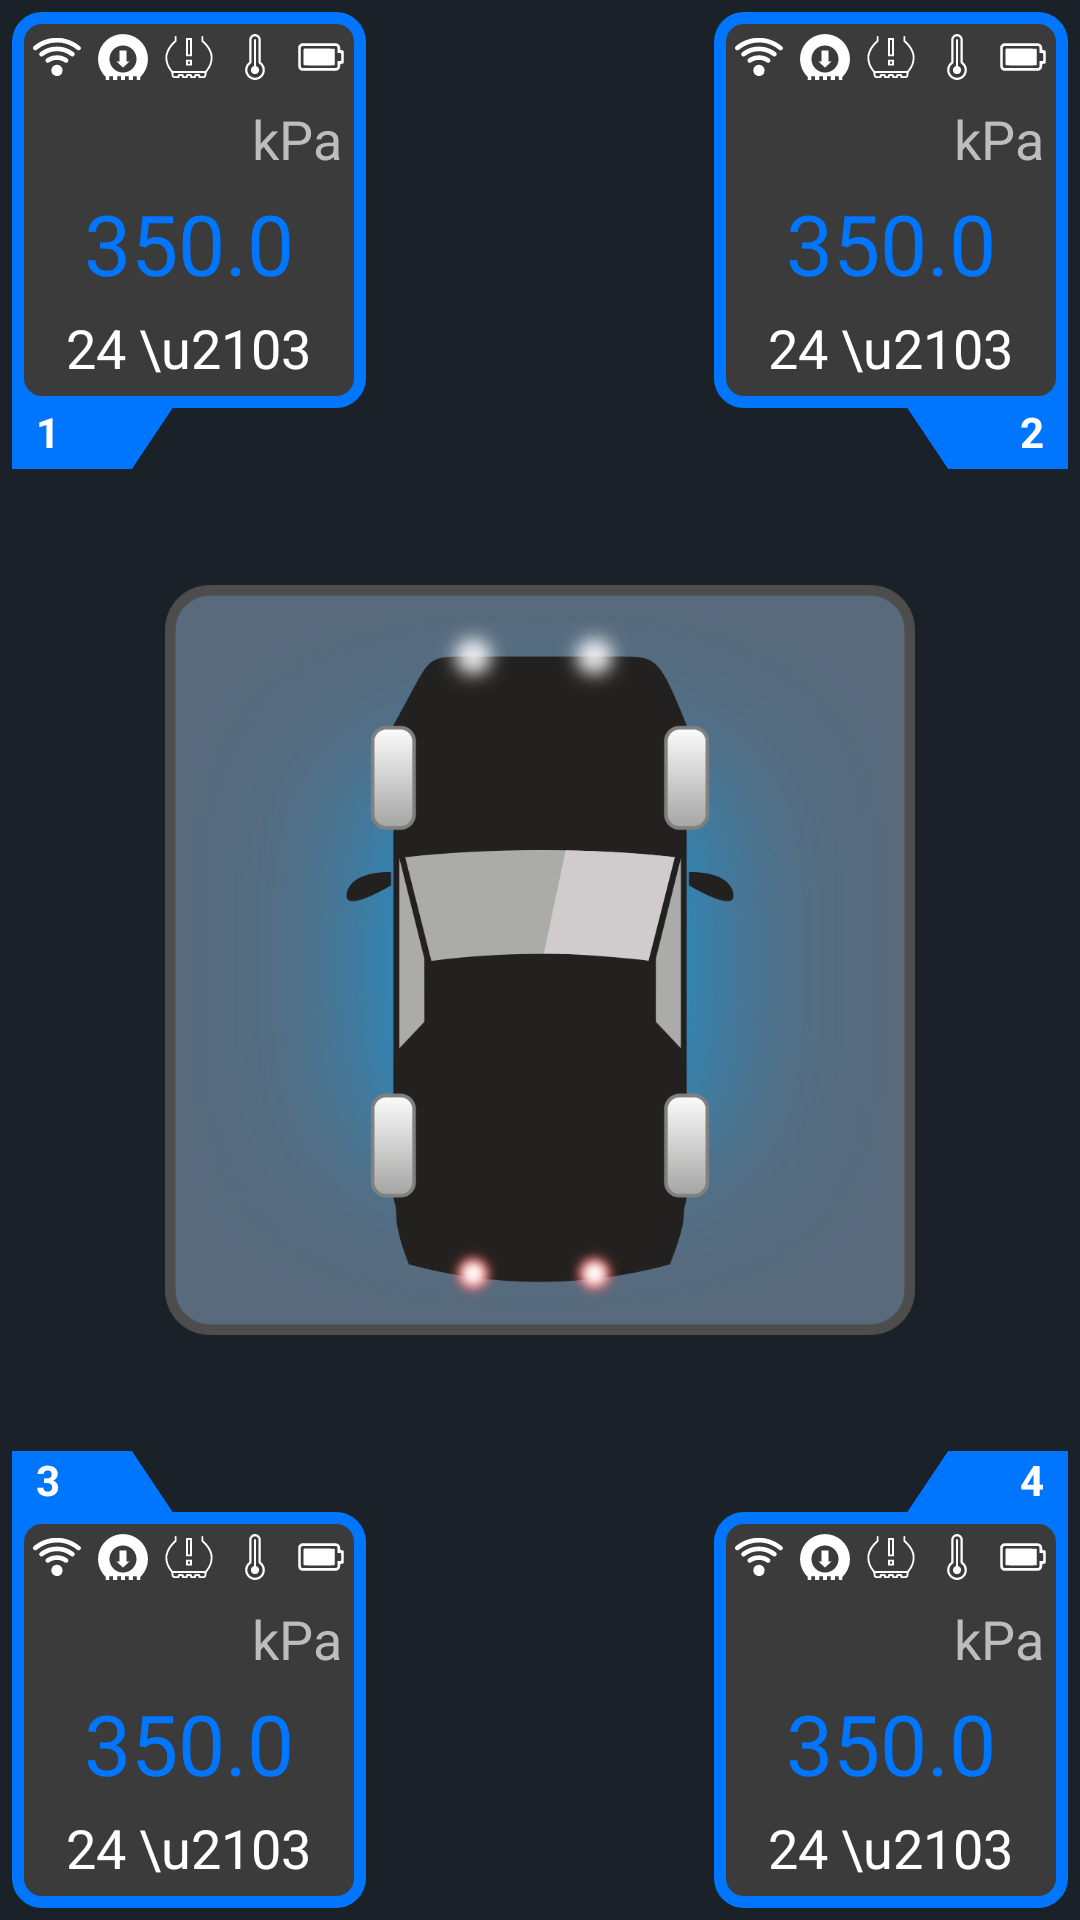

Named icons in this screenshot (1080 x 1920) and their centers, [x,y]:
battery: [321,57], [1023,57], [321,1557], [1023,1557]
connection: [57,57], [759,57], [57,1557], [759,1557]
decompression: [123,57], [825,57], [123,1557], [825,1557]
error: [189,57], [891,57], [189,1557], [891,1557]
temperature: [255,57], [957,57], [255,1557], [957,1557]
